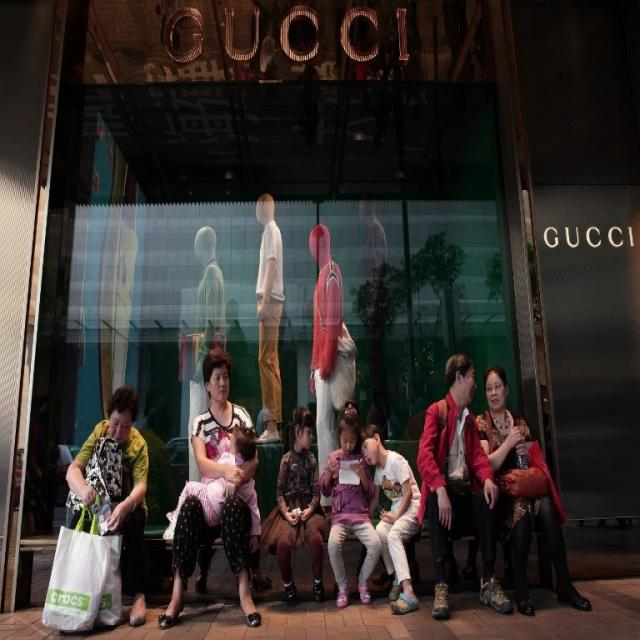body: (19, 191, 402, 530), (155, 346, 263, 629), (475, 362, 594, 618), (417, 352, 514, 618), (60, 383, 150, 625), (315, 401, 383, 609), (355, 420, 425, 614), (162, 425, 262, 544), (274, 402, 328, 602)
